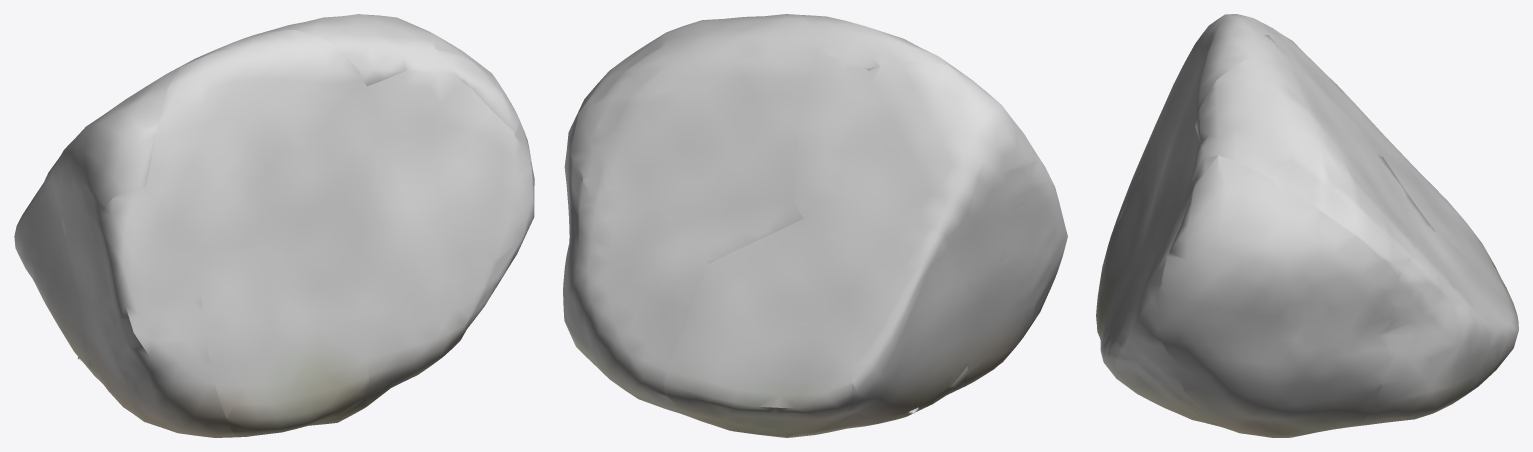
The model's file is gold_rock_v4.glb.
3 renders of one model, left to right at view 1: azimuth 30°, elevation 25°; view 2: azimuth 150°, elevation 25°; view 3: azimuth 270°, elevation 25°, orthographic. The views are drawn at different scales.
Parts seen in each view (by area): view 1: Chunk_06, Chunk_09, Chunk_05, Chunk_04, Chunk_08, Chunk_03, Chunk_07, Chunk_00; view 2: Chunk_07, Chunk_02, Chunk_08, Chunk_01, Chunk_03, Chunk_04, Chunk_27, Chunk_26, Chunk_09, Chunk_21, Chunk_11, Chunk_00; view 3: Chunk_00, Chunk_07, Chunk_01, Chunk_06, Chunk_09, Chunk_02, Chunk_05, Chunk_08, Chunk_27, Chunk_04, Chunk_03, Chunk_26 (+1 smaller).
Part boxes in pixels (bbox=[...]): Chunk_06: bbox=[336, 65, 534, 407]; Chunk_09: bbox=[146, 30, 366, 258]; Chunk_05: bbox=[199, 247, 369, 436]; Chunk_04: bbox=[81, 186, 246, 437]; Chunk_08: bbox=[50, 59, 193, 301]; Chunk_03: bbox=[14, 168, 89, 366]; Chunk_07: bbox=[263, 14, 436, 86]; Chunk_00: bbox=[431, 34, 534, 201]; Chunk_07: bbox=[569, 14, 816, 218]; Chunk_02: bbox=[663, 218, 851, 435]; Chunk_08: bbox=[837, 60, 1033, 307]; Chunk_01: bbox=[563, 177, 719, 426]; Chunk_03: bbox=[835, 225, 979, 418]; Chunk_04: bbox=[964, 148, 1067, 386]; Chunk_27: bbox=[794, 52, 868, 229]; Chunk_26: bbox=[699, 94, 802, 217]; Chunk_09: bbox=[801, 15, 974, 82]; Chunk_21: bbox=[697, 203, 803, 263]; Chunk_11: bbox=[759, 401, 932, 437]; Chunk_00: bbox=[564, 21, 697, 203]; Chunk_00: bbox=[1158, 156, 1398, 437]; Chunk_07: bbox=[1195, 57, 1413, 276]; Chunk_01: bbox=[1355, 215, 1518, 425]; Chunk_06: bbox=[1100, 127, 1212, 424]; Chunk_09: bbox=[1145, 14, 1276, 230]; Chunk_02: bbox=[1380, 148, 1518, 321]; Chunk_05: bbox=[1096, 137, 1159, 339]; Chunk_08: bbox=[1186, 14, 1377, 144]; Chunk_27: bbox=[1275, 43, 1382, 156]; Chunk_04: bbox=[1108, 58, 1187, 243]; Chunk_03: bbox=[1350, 98, 1459, 214]; Chunk_26: bbox=[1310, 90, 1406, 211].
Size of the model in its own units: 2.24 by 1.76 by 2.
